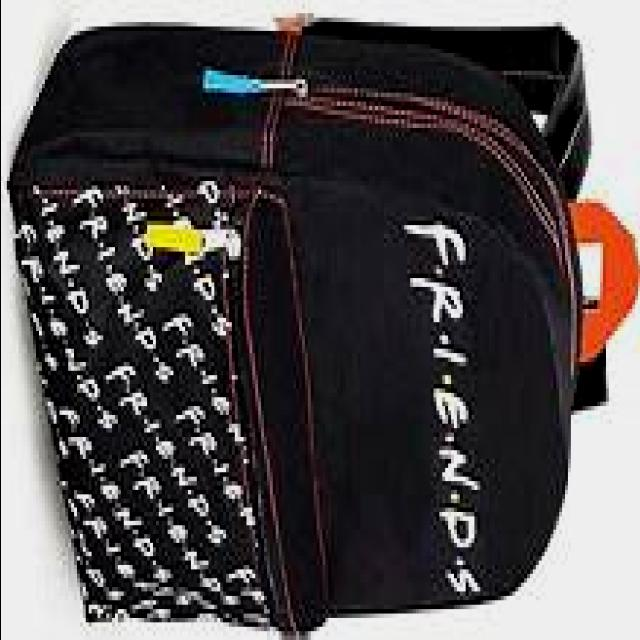backpack: (10, 14, 640, 632)
